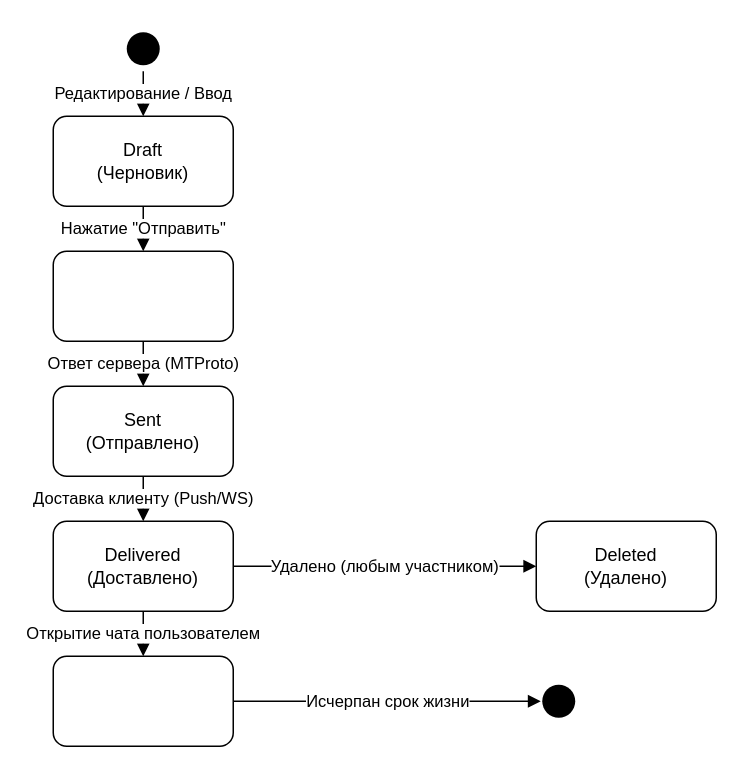
Image size: 743x773. Some labels were removed from this diagram. The shapes that lost their labels are listed below. From the top down, each one's centre as x and y in pixels, then its label:
point 142,295: Sending (Отправка)
point 142,700: Read (Прочитано)
